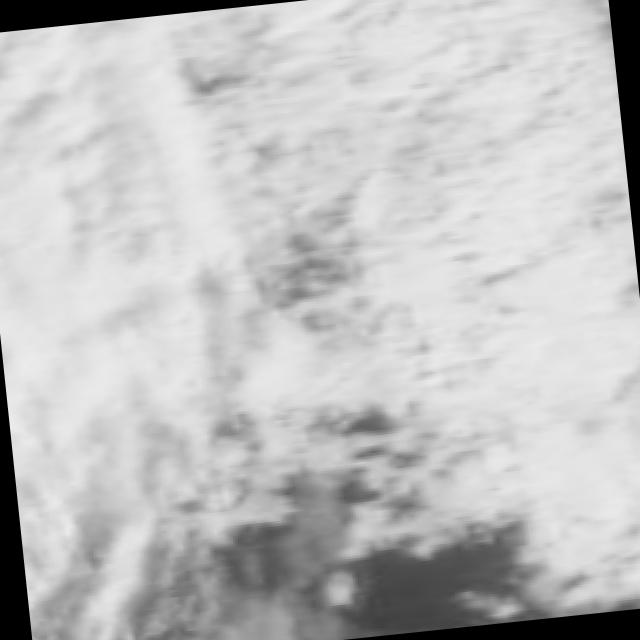CB: (0, 249, 215, 488), (308, 0, 586, 179), (0, 25, 203, 232), (389, 166, 626, 332), (470, 327, 640, 498)
